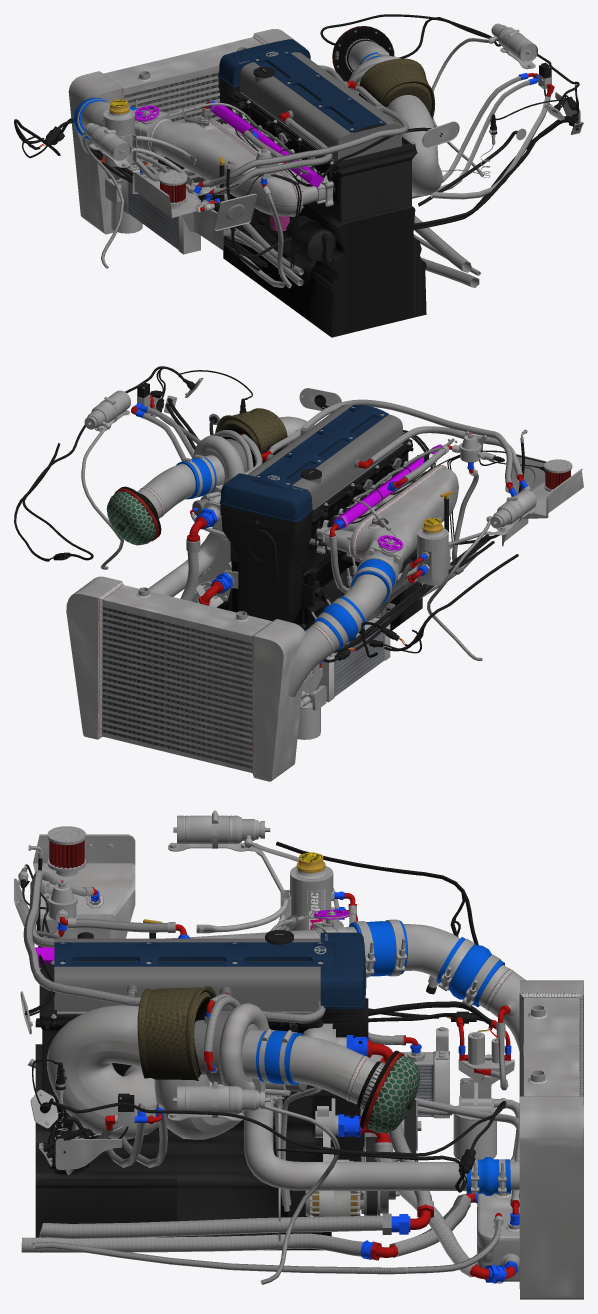
The model's file is engine.glb.
3 renders of one model, top to bottom at view 1: azimuth 30°, elevation 25°; view 2: azimuth 150°, elevation 25°; view 3: azimuth 270°, elevation 25°, orthographic. The views are drawn at different scales.
Parts seen in each view (by area): view 1: Object_11, Object_9, Object_3, Object_12, Object_8, Object_4, Object_5, Object_6, Object_2, Object_13; view 2: Object_9, Object_11, Object_3, Object_8, Object_6, Object_12, Object_4, Object_5, Object_2, Object_13; view 3: Object_9, Object_11, Object_12, Object_3, Object_8, Object_5, Object_4, Object_6, Object_2, Object_13.
Part boxes in pixels (x1,y1,x2,y2): Object_11: [111, 58, 434, 337]; Object_9: [68, 23, 583, 254]; Object_3: [79, 49, 415, 236]; Object_12: [81, 38, 550, 288]; Object_8: [111, 51, 442, 233]; Object_4: [14, 14, 579, 271]; Object_5: [74, 52, 578, 211]; Object_6: [218, 39, 310, 123]; Object_2: [332, 26, 394, 81]; Object_13: [99, 33, 377, 216]; Object_9: [66, 378, 583, 781]; Object_11: [102, 408, 570, 768]; Object_3: [176, 404, 463, 649]; Object_8: [182, 416, 458, 739]; Object_6: [219, 473, 313, 622]; Object_12: [81, 399, 522, 708]; Object_4: [14, 366, 545, 662]; Object_5: [131, 379, 545, 678]; Object_2: [106, 486, 161, 545]; Object_13: [98, 465, 532, 777]; Object_9: [14, 810, 583, 1299]; Object_11: [35, 840, 432, 1250]; Object_12: [21, 843, 519, 1284]; Object_3: [35, 909, 504, 1234]; Object_8: [46, 910, 496, 1241]; Object_5: [20, 852, 519, 1283]; Object_4: [22, 841, 506, 1192]; Object_6: [320, 932, 368, 1161]; Object_2: [357, 1050, 420, 1132]; Object_13: [86, 894, 583, 1288].
Size of the model in its own units: 1.56 by 0.7148 by 1.23.
6 materials, 6 textured.
